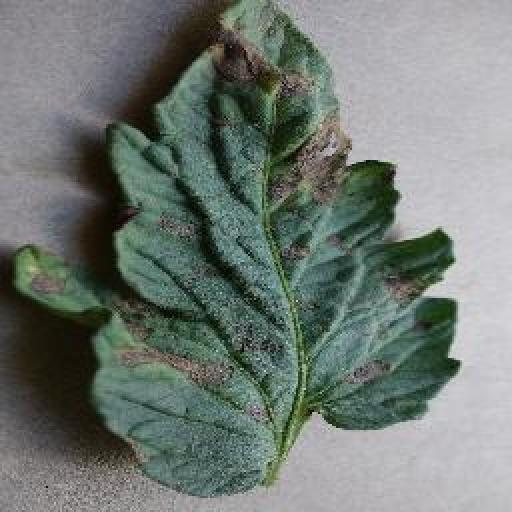Early Blight: (17, 0, 460, 496)
